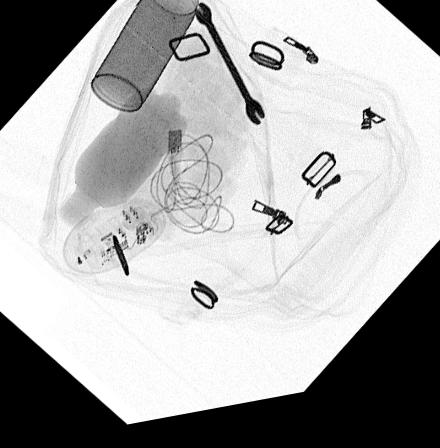Wrench: (192, 7, 265, 134)
